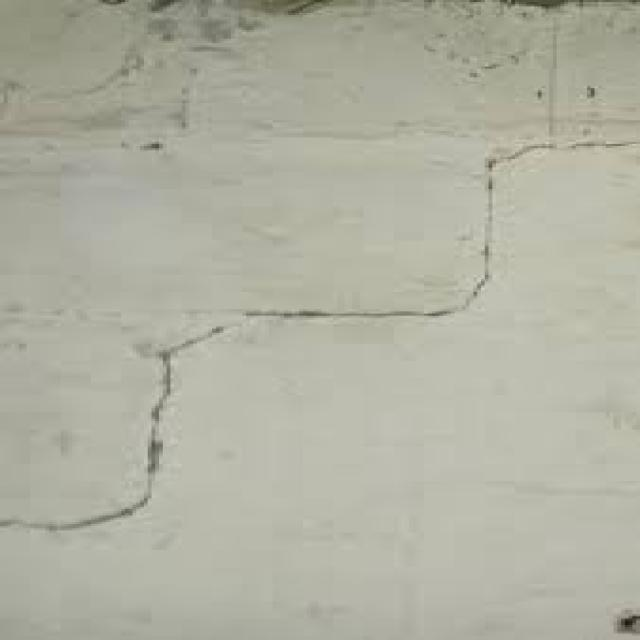Crack: (0, 135, 632, 530)
